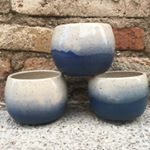cups: (49, 21, 119, 79), (1, 69, 69, 127), (87, 66, 150, 125)
